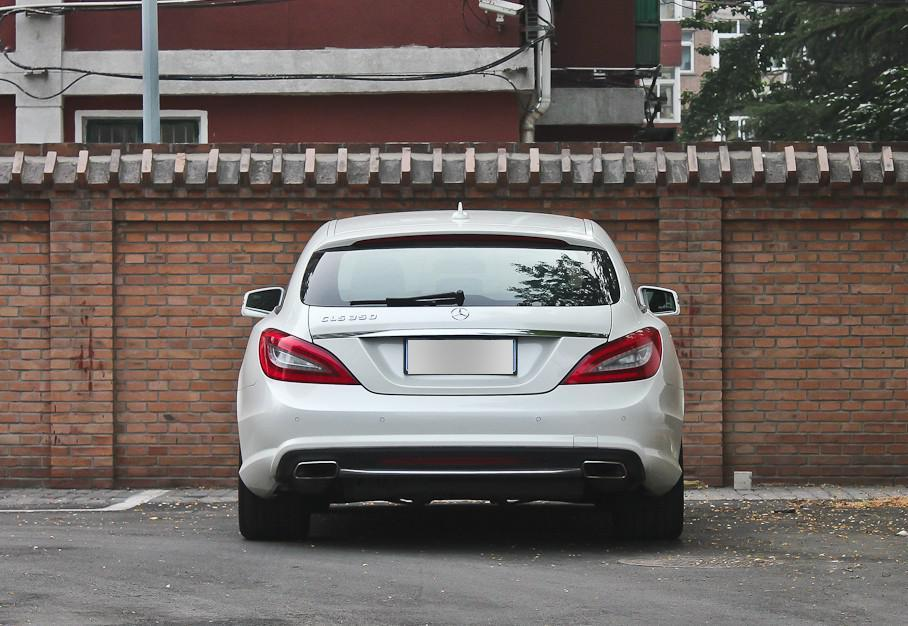Wagon: (234, 200, 687, 539)
